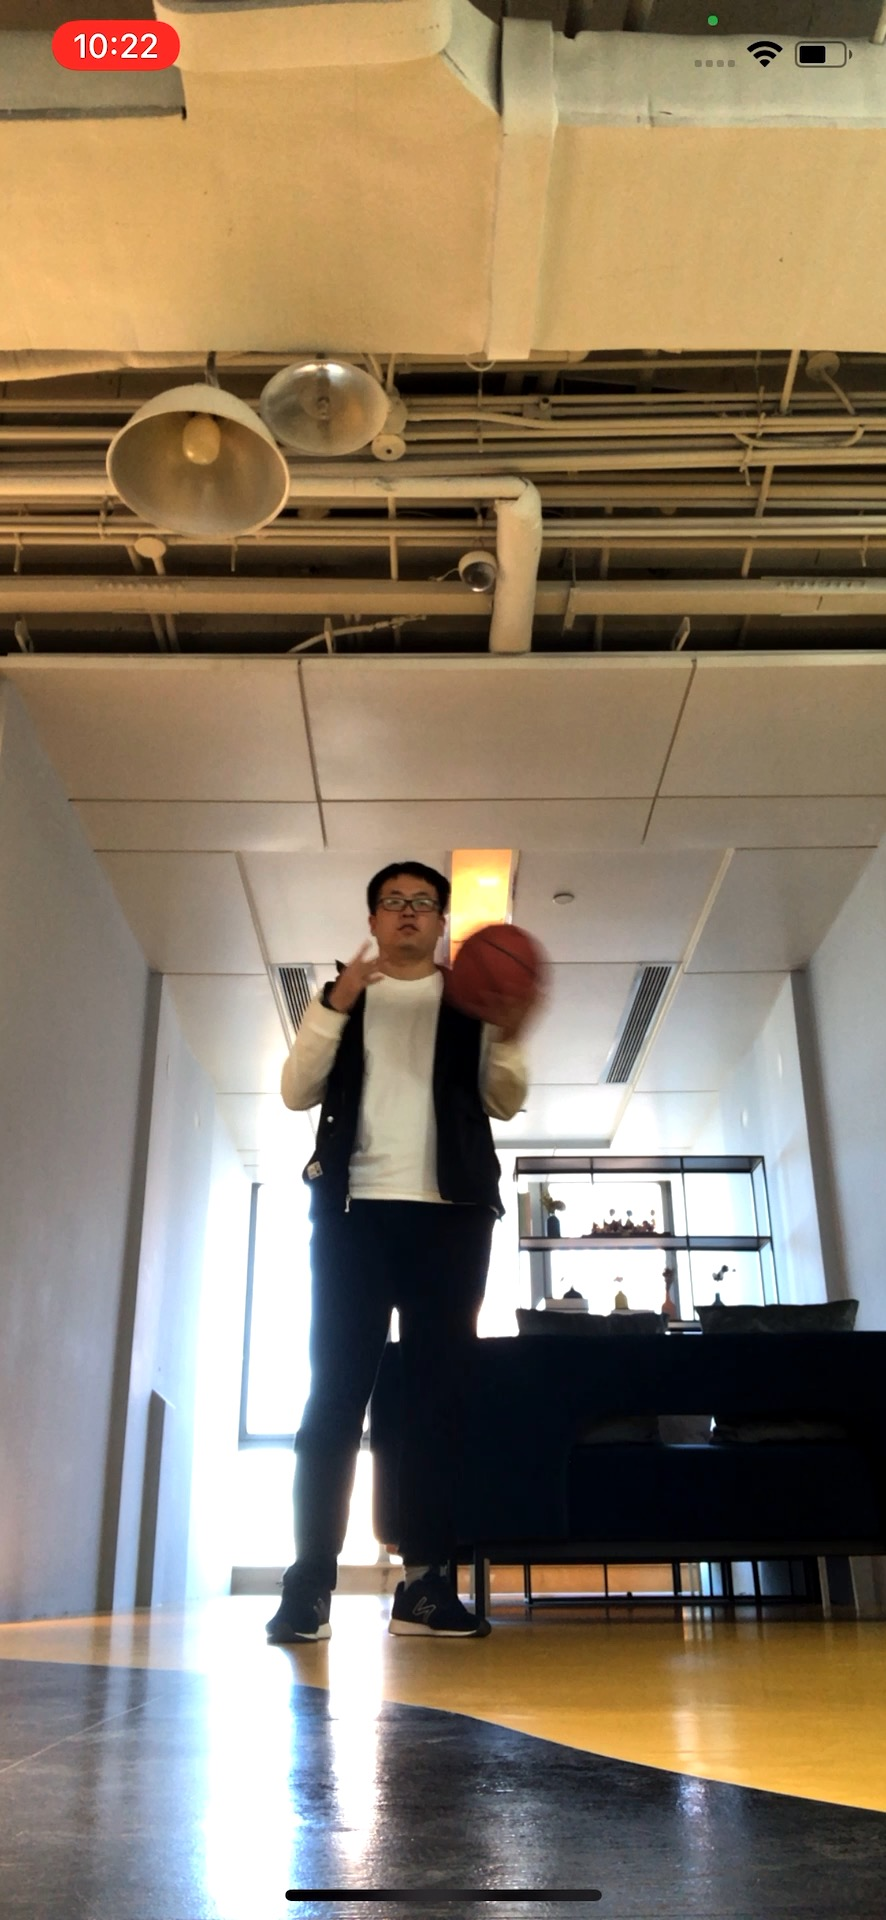ball: (447, 927, 551, 1021)
